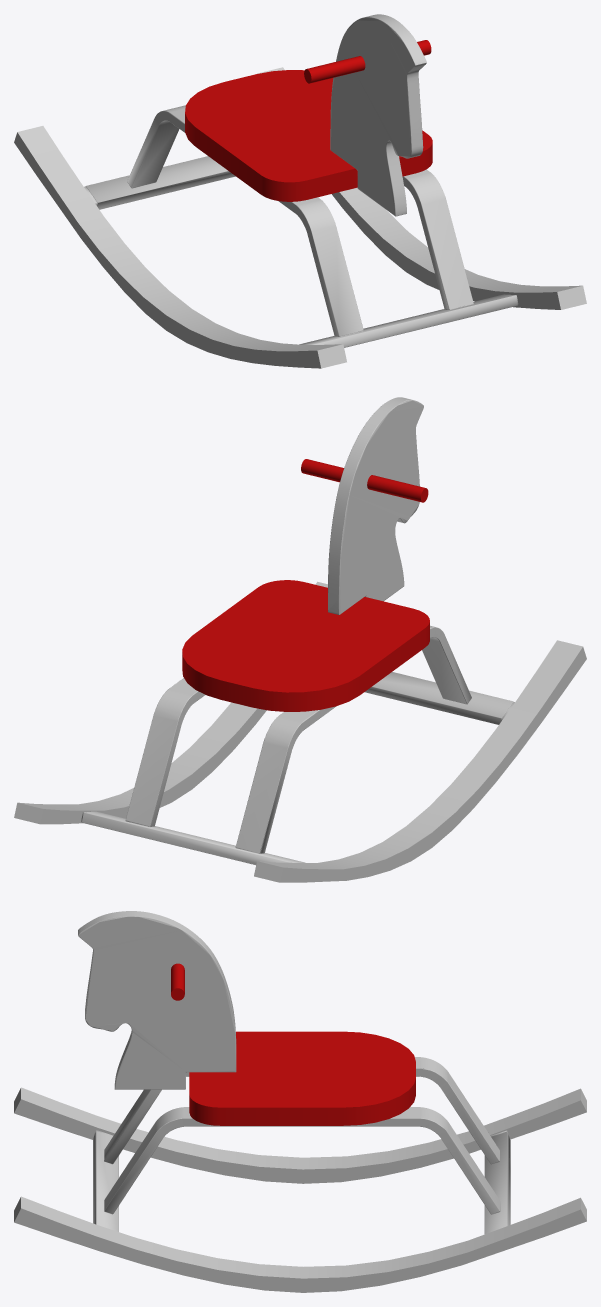
Rendered from Horse.FBX.
The picture shows the model from 3 angles, top to bottom: view 1: azimuth 30°, elevation 25°; view 2: azimuth 150°, elevation 25°; view 3: azimuth 270°, elevation 25°; orthographic projection. The views are drawn at different scales.
Visible parts, largest first — view 1: horse; view 2: horse; view 3: horse.
Part boxes in pixels (box(x1,y1,x2,y2)): horse: box(14, 14, 586, 368); horse: box(14, 397, 586, 882); horse: box(14, 911, 586, 1292).
Bounding box in the file's own units: 51.51 × 63.49 × 103.
